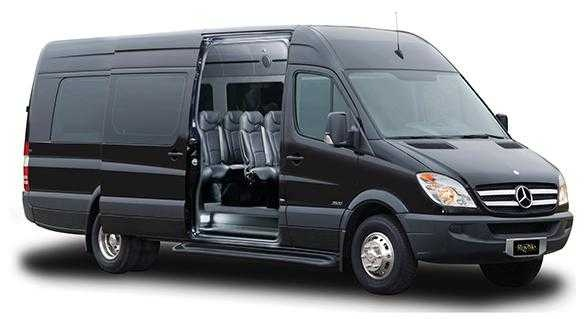van: (23, 25, 575, 295)
